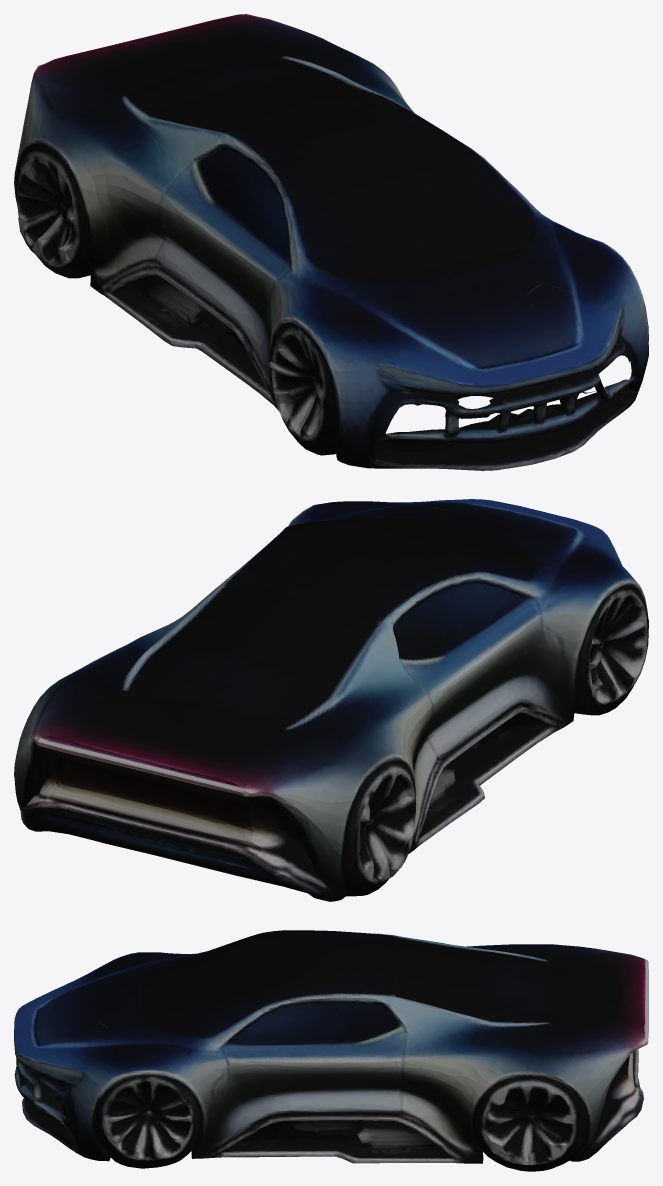
The model's file is suv1.glb.
The picture shows the model from 3 angles, top to bottom: view 1: azimuth 30°, elevation 25°; view 2: azimuth 150°, elevation 25°; view 3: azimuth 270°, elevation 25°; orthographic projection. The views are drawn at different scales.
Visible parts, largest first — view 1: world; view 2: world; view 3: world.
Boxes of the visible parts, left/top/right/bottom form: world: left=14, top=14, right=648, bottom=470; world: left=14, top=499, right=648, bottom=901; world: left=14, top=930, right=648, bottom=1171.
Bounding box in the file's own units: 0.5052 × 0.2703 × 1.
1 material, 1 textured.
